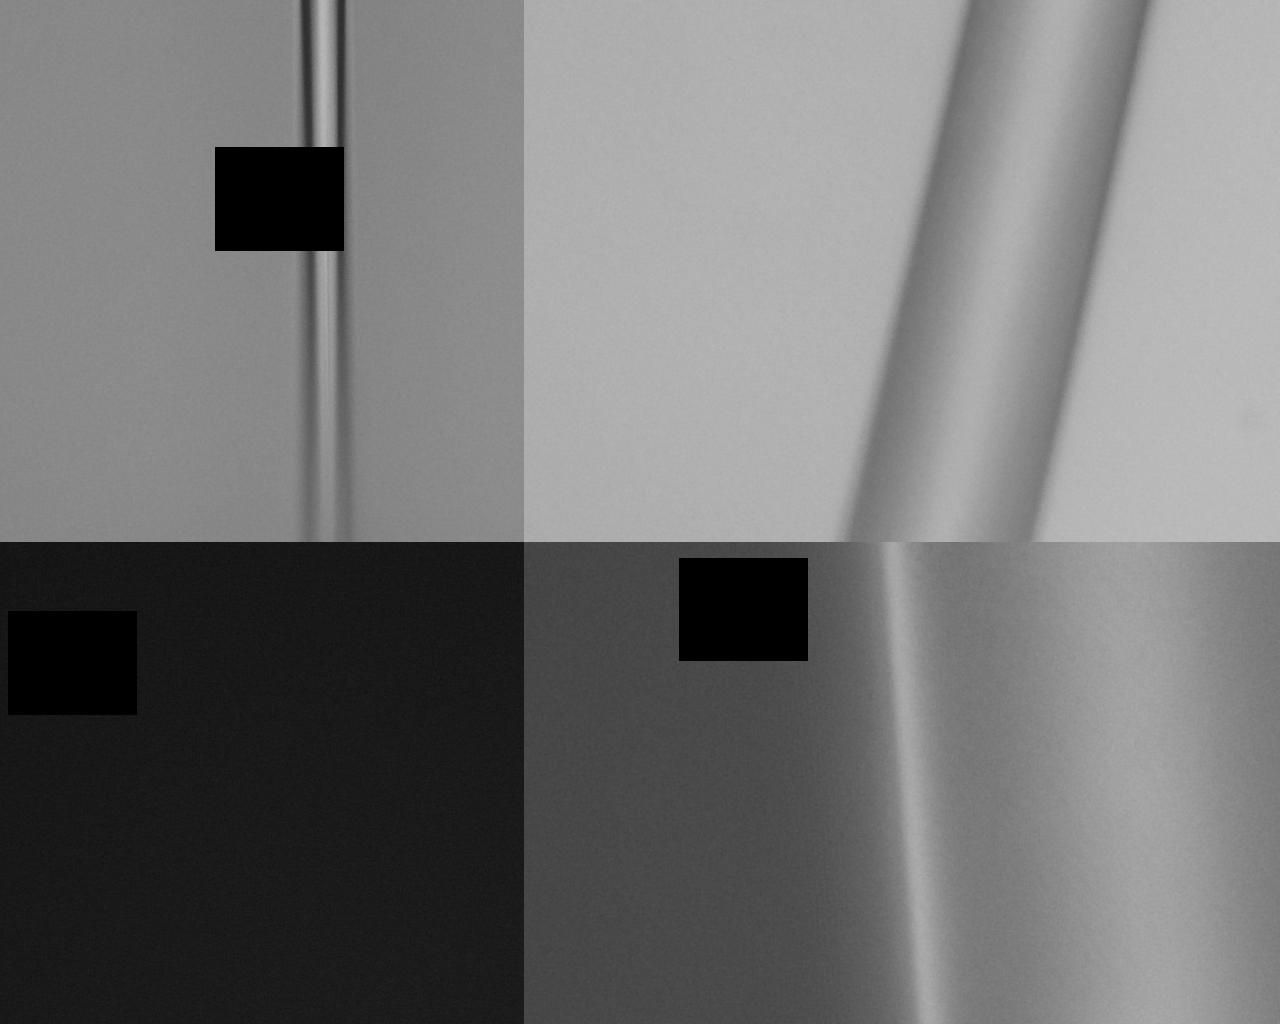fiber: (671, 0, 721, 1024)
